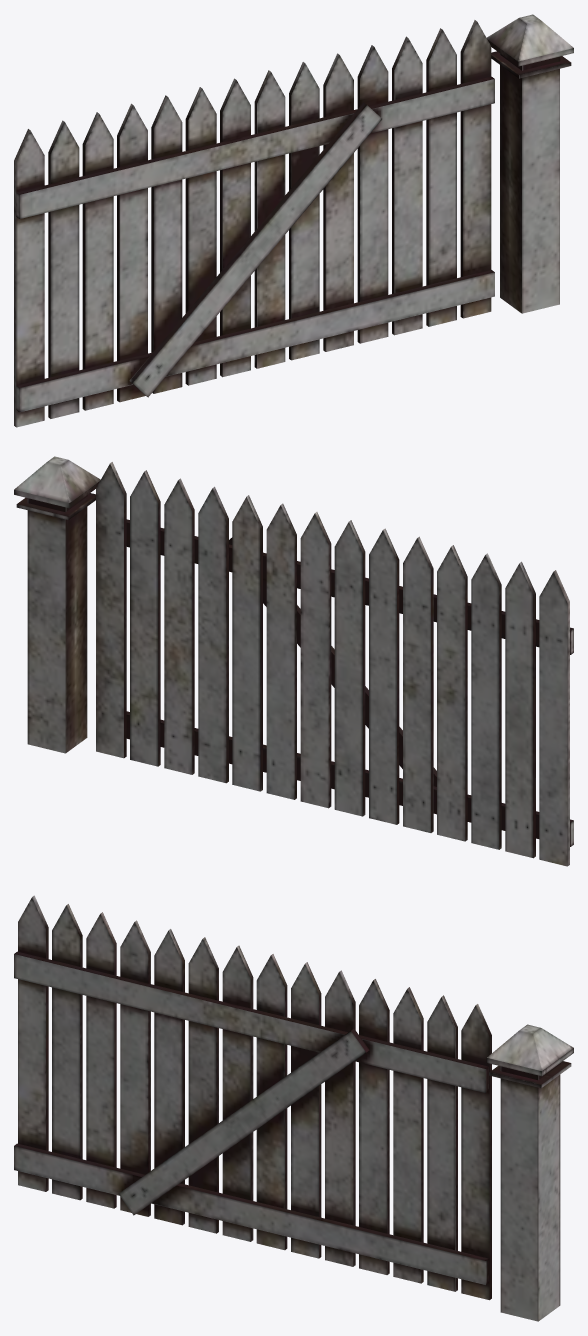
Rendered from fpicket_477.glb.
3 renders of one model, top to bottom at view 1: azimuth 30°, elevation 25°; view 2: azimuth 150°, elevation 25°; view 3: azimuth 330°, elevation 25°, orthographic.
Visible parts, largest first — view 1: fpicket_477; view 2: fpicket_477; view 3: fpicket_477.
Part boxes in pixels (<box>): fpicket_477: <box>14,14,573,427</box>; fpicket_477: <box>14,456,573,866</box>; fpicket_477: <box>14,895,573,1321</box>.
Bounding box in the file's own units: 2.23 × 1.15 × 0.228.
1 material, 1 textured.
